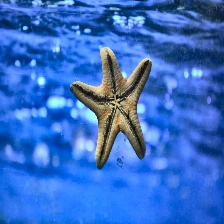starfish: (70, 48, 152, 171)
